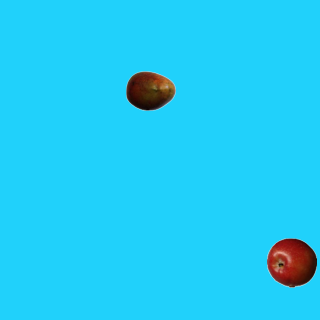Apple Braeburn: (266, 237, 316, 287)
Mango Red: (125, 65, 175, 115)
